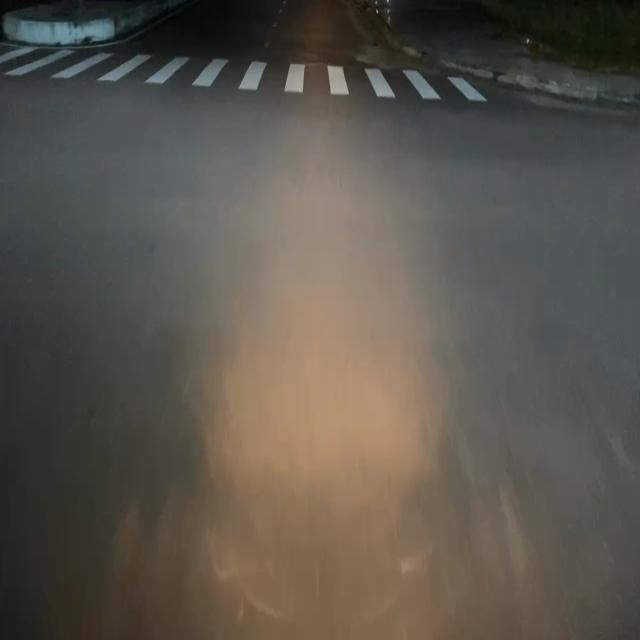walk-crossing: (4, 43, 504, 109)
